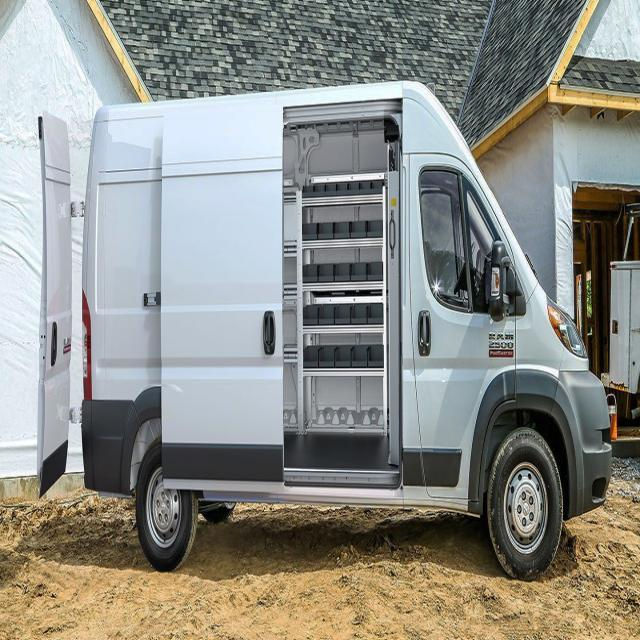truck: (39, 79, 614, 580)
